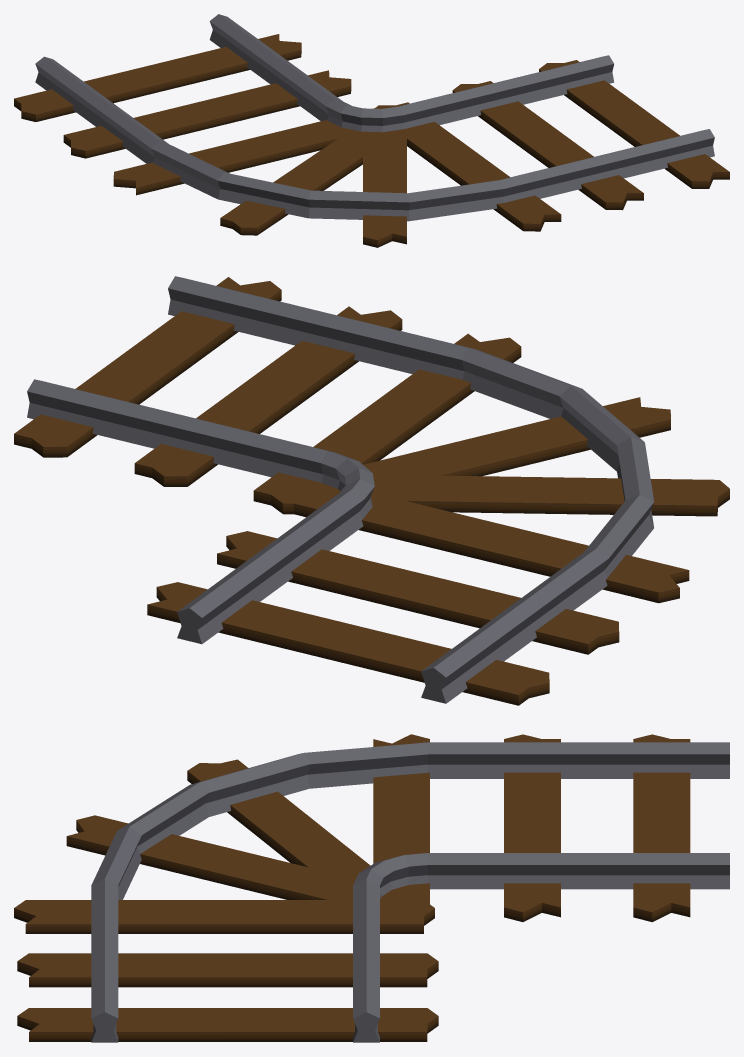
File: SM_TrackCurve.fbx
The picture shows the model from 3 angles, top to bottom: view 1: azimuth 30°, elevation 25°; view 2: azimuth 150°, elevation 25°; view 3: azimuth 270°, elevation 25°; orthographic projection. The views are drawn at different scales.
Parts seen in each view (by area): view 1: SM_TrackCurve; view 2: SM_TrackCurve; view 3: SM_TrackCurve.
Boxes of the visible parts, x1,y1,x2,y2 form: SM_TrackCurve: (14, 14, 729, 247); SM_TrackCurve: (14, 276, 729, 705); SM_TrackCurve: (14, 734, 729, 1042).
Size of the model in its own units: 65.6 by 3.57 by 65.41.
